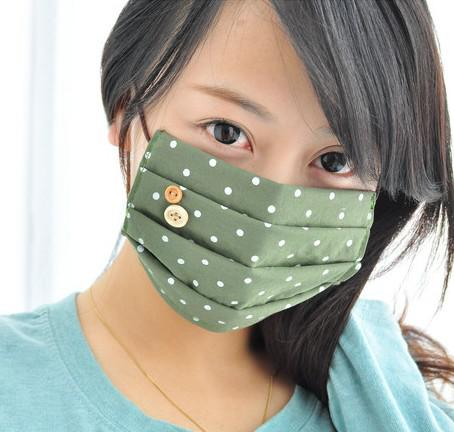OK: (128, 73, 384, 329)
